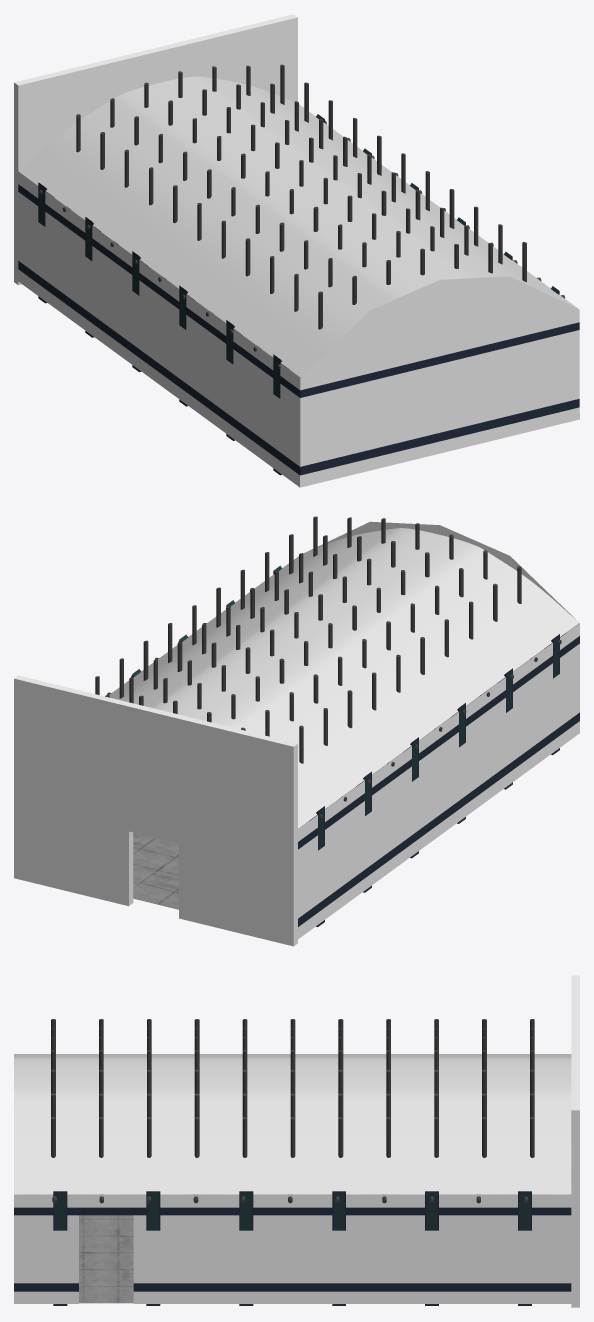
File: ExteriorBunker_Mesh.fbx
3 views of the same model, one above another, from view 1: azimuth 30°, elevation 25°; view 2: azimuth 150°, elevation 25°; view 3: azimuth 270°, elevation 25° (orthographic).
Parts seen in each view (by area): view 1: Plane.008, Plane.005, Plane.006, Plane.002, Cylinder.023, Plane.012, Cube.003, Cube.001; view 2: Plane.008, Plane.002, Plane.006, Cylinder.023, Plane, Cube.003, Plane.005, Cube.001; view 3: Plane.008, Plane.006, Cylinder.023, Plane, Plane.002, Cube.003, Cube.001.
Part boxes in pixels (x1,y1,x2,y2): Plane.008: [19, 76, 578, 377]; Plane.005: [300, 276, 579, 487]; Plane.006: [18, 171, 300, 487]; Plane.002: [14, 14, 297, 285]; Cylinder.023: [76, 64, 526, 329]; Plane.012: [300, 322, 579, 475]; Cube.003: [39, 114, 559, 473]; Cube.001: [38, 119, 559, 475]; Plane.008: [109, 528, 579, 828]; Plane.002: [14, 675, 297, 946]; Plane.006: [298, 623, 579, 939]; Cylinder.023: [95, 516, 521, 763]; Plane: [133, 705, 467, 909]; Cube.003: [132, 565, 559, 925]; Plane.005: [303, 521, 579, 704]; Cube.001: [132, 571, 559, 926]; Plane.008: [14, 1054, 571, 1194]; Plane.006: [14, 1195, 571, 1303]; Cylinder.023: [51, 1019, 534, 1157]; Plane: [14, 1194, 570, 1303]; Plane.002: [571, 975, 579, 1307]; Cube.003: [54, 1192, 530, 1305]; Cube.001: [53, 1191, 531, 1305].
Bounding box in the file's own units: 3277 × 2189 × 5687.
